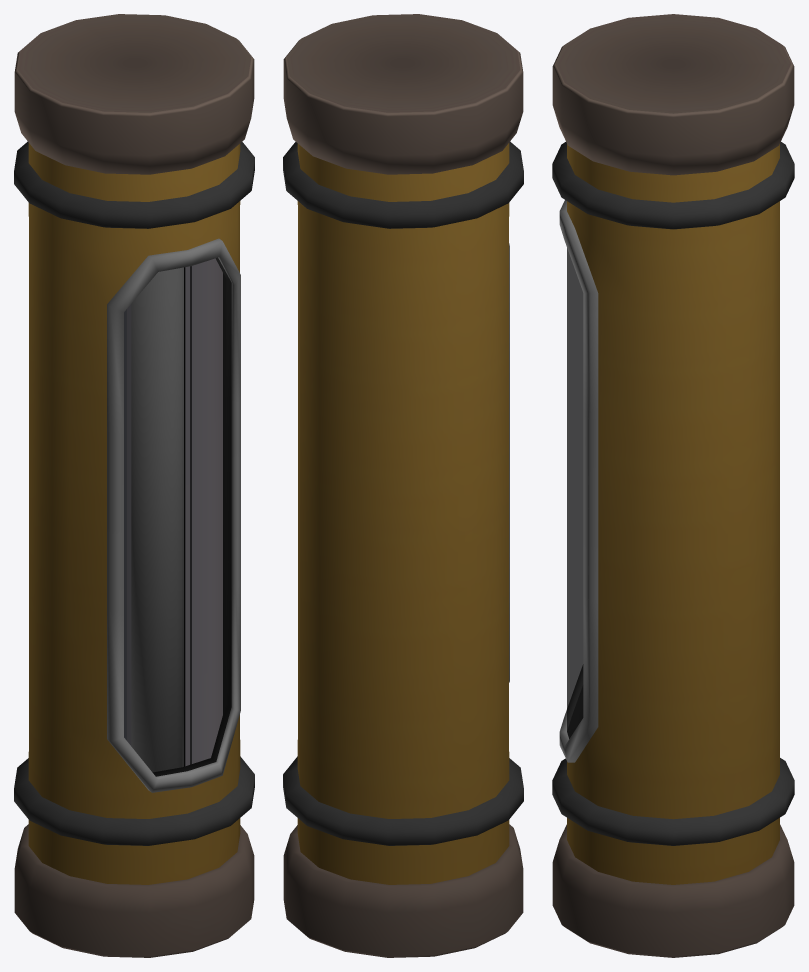
3 views of the same model, side by side, from view 1: azimuth 30°, elevation 25°; view 2: azimuth 150°, elevation 25°; view 3: azimuth 270°, elevation 25° (orthographic).
Parts seen in each view (by area): view 1: Capsule_Tube, Capsule_Lid, Doc5, Doc_Alt1, Doc_Alt2; view 2: Capsule_Tube, Capsule_Lid; view 3: Capsule_Tube, Capsule_Lid.
Part boxes in pixels (x1,y1,x2,y2): Capsule_Tube: (14,141,254,957); Capsule_Lid: (14,14,254,174); Doc5: (131,267,182,772); Doc_Alt1: (124,258,222,764); Doc_Alt2: (127,266,190,766); Capsule_Tube: (283,141,523,957); Capsule_Lid: (283,14,523,174); Capsule_Tube: (552,142,794,957); Capsule_Lid: (552,14,794,175).
Bounding box in the file's own units: 82 × 315 × 82.
